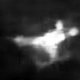plane: (13, 18, 79, 68)
